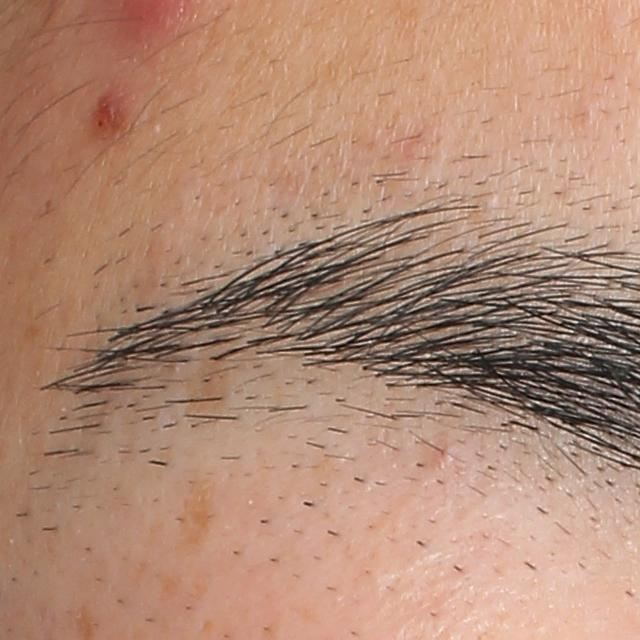comedo: (576, 96, 601, 129), (475, 187, 500, 212)
melasma: (73, 610, 94, 640)
